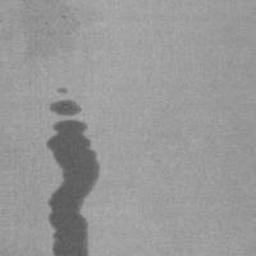Water spot: (45, 84, 101, 256)
